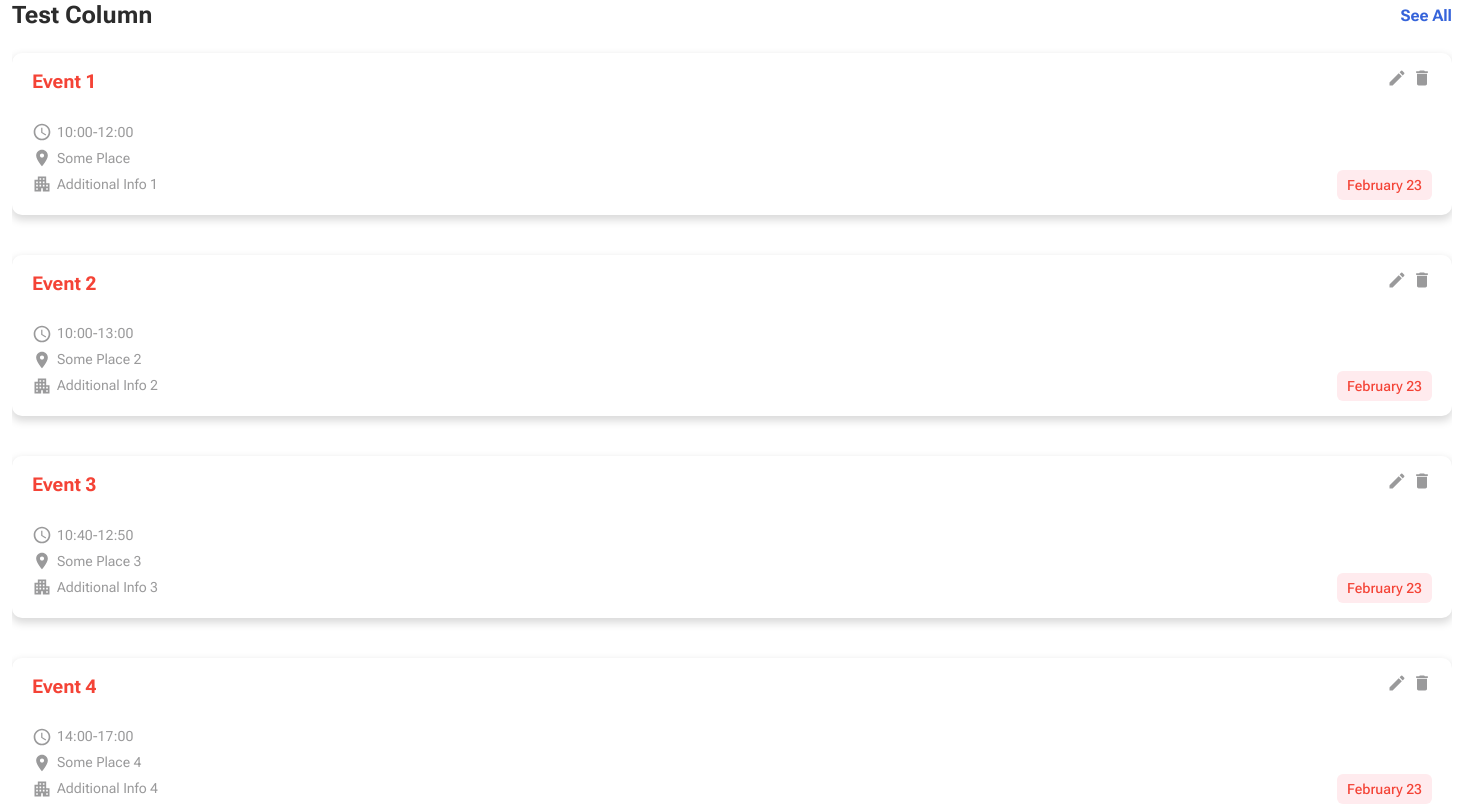
Test case: EventListColumn › expands to show all events when "See All" is clicked
Expected: the text "Event 5" is not shown
Step 1. Click the text "See All" → (1426, 15), box [1400,6,1452,24]
(page scrolled)
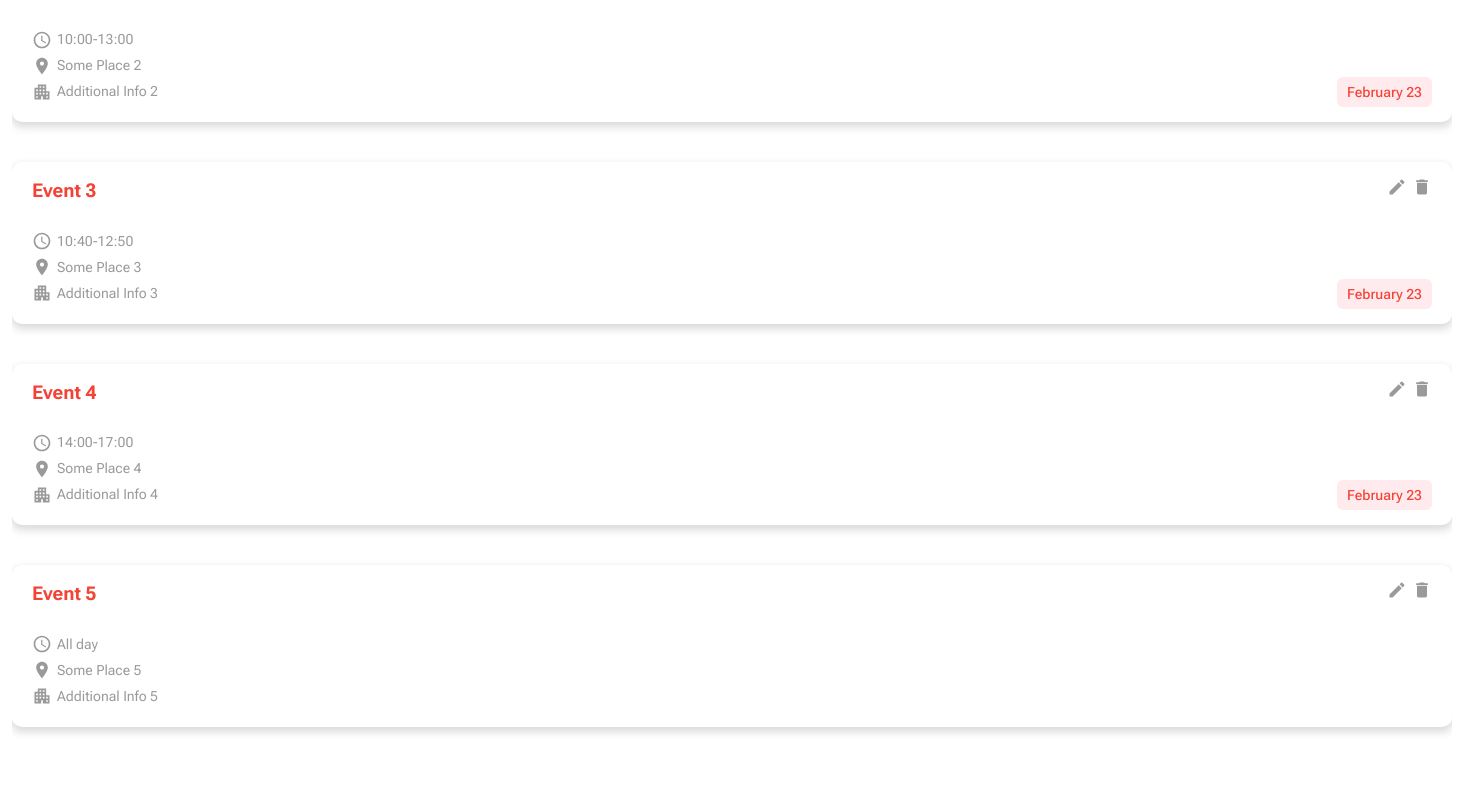
Now the heading "Event 5" is shown, box [32,580,96,608]
